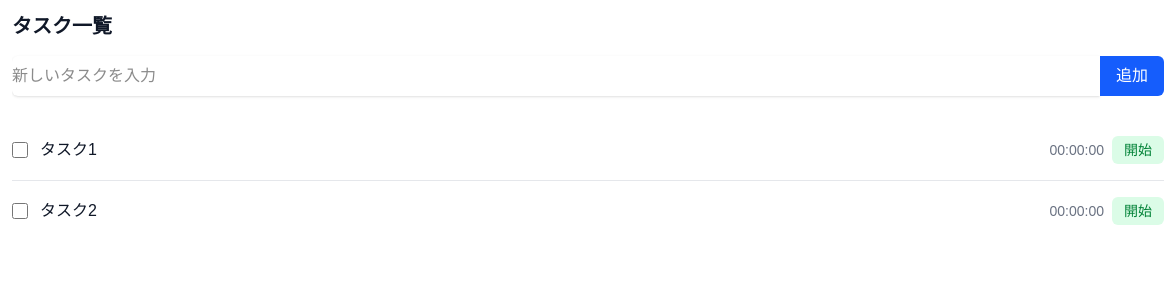
Test case: TaskApp Components › TaskList › adds a new task when form is submitted
The width and height of the screenshot is (1176, 303).
In the field with placeholder "新しいタスクを入力": (556, 76) [12,56,1100,96], type "新しいタスク"
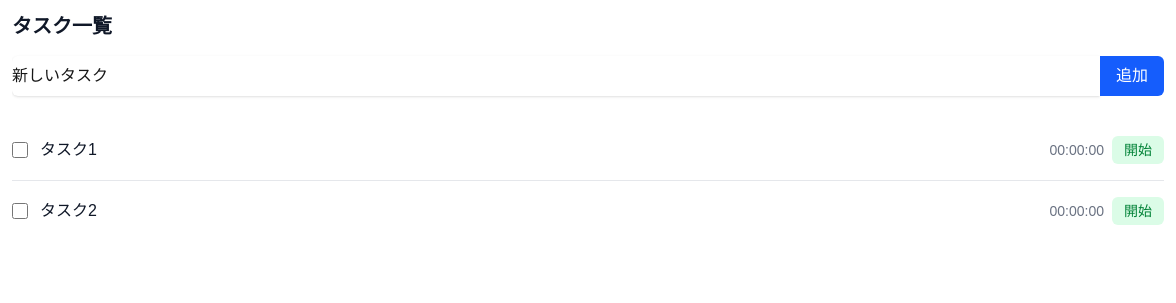
Click the button "追加": (1132, 76) [1100,56,1164,96]
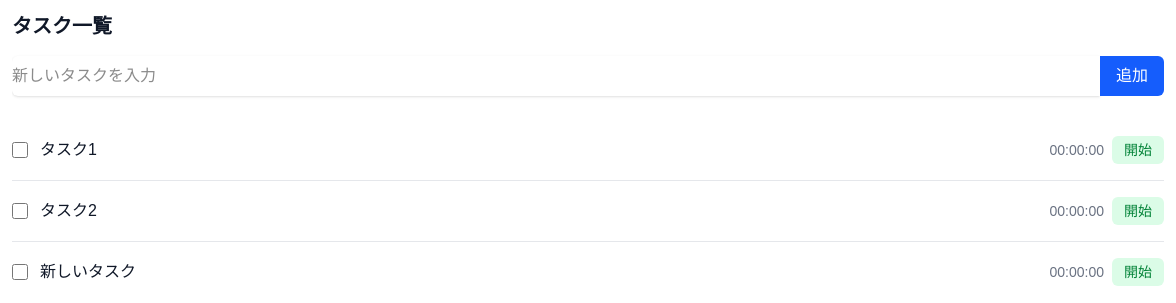
Expected: the text "新しいタスク" is shown, [40,260,136,284]
Expected: the field with placeholder "新しいタスクを入力" is empty, [12,56,1100,96]
